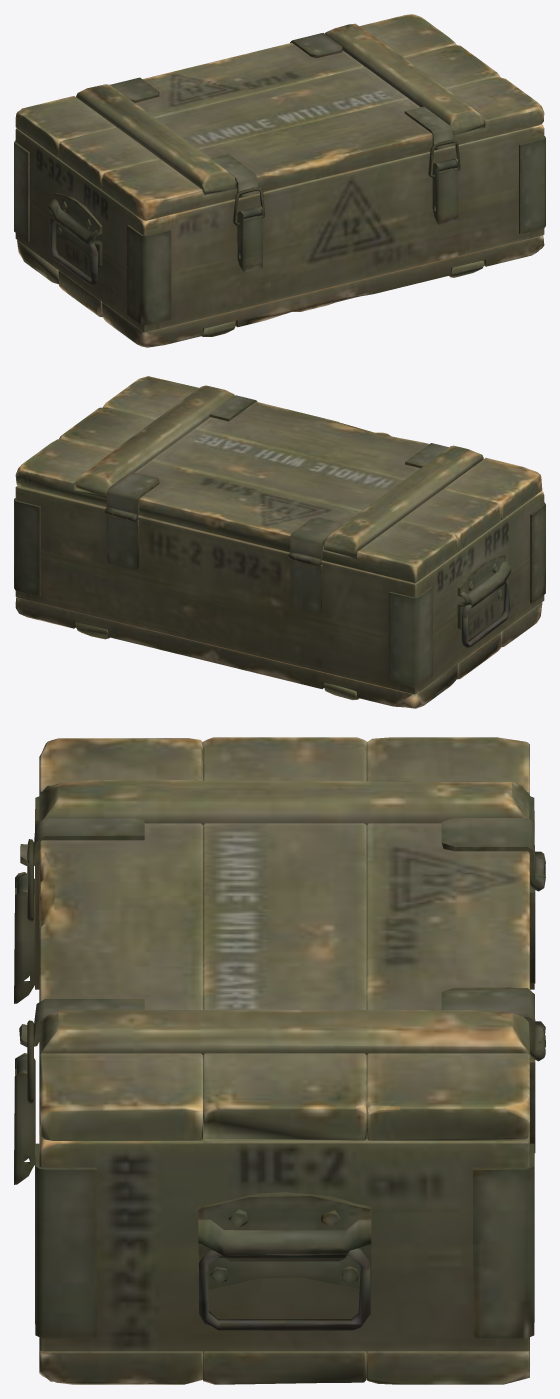
Rendered from old_military_crate-a.glb.
3 views of the same model, one above another, from view 1: azimuth 30°, elevation 25°; view 2: azimuth 150°, elevation 25°; view 3: azimuth 270°, elevation 25° (orthographic). The views are drawn at different scales.
Parts seen in each view (by area): view 1: old_military_crate_lid_a; view 2: old_military_crate_lid_a; view 3: old_military_crate_lid_a.
Boxes of the visible parts, x1,y1,x2,y2 form: old_military_crate_lid_a: (14, 14, 545, 347); old_military_crate_lid_a: (14, 376, 545, 708); old_military_crate_lid_a: (14, 737, 545, 1384).
Size of the model in its own units: 0.8047 by 0.3009 by 0.4662.
Materials: 1 (1 with a texture image).
